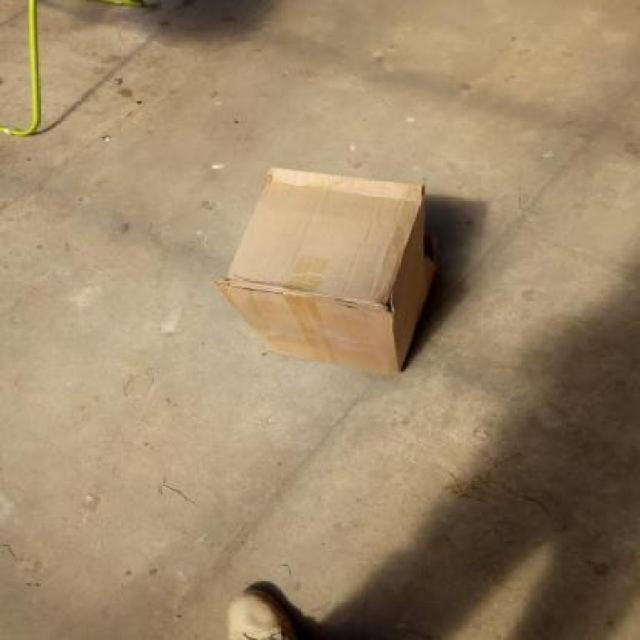box: (214, 167, 448, 389)
